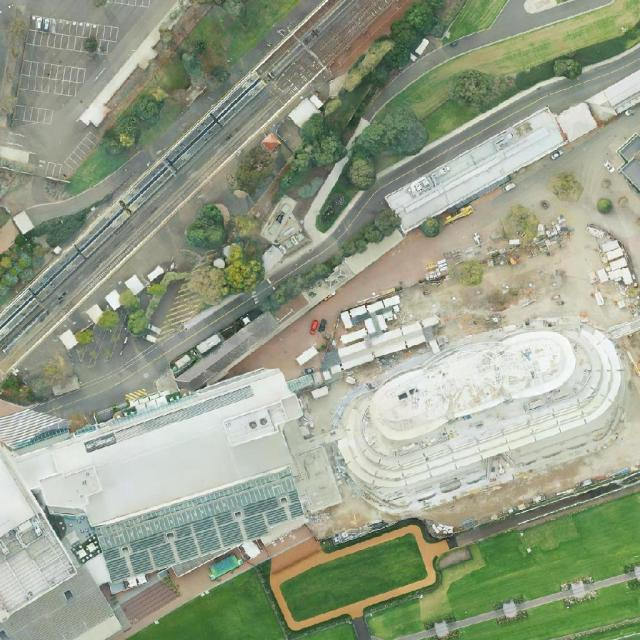building: (12, 360, 338, 608), (319, 293, 640, 531), (383, 88, 601, 237), (0, 447, 121, 640), (78, 23, 173, 132), (174, 309, 285, 401), (297, 222, 406, 311), (335, 313, 445, 372), (332, 293, 409, 347), (285, 445, 343, 516), (0, 397, 71, 454), (587, 233, 640, 297), (257, 193, 312, 252), (286, 92, 326, 130), (618, 134, 640, 194), (279, 417, 311, 458), (50, 374, 82, 398), (11, 210, 36, 236), (524, 0, 558, 14)
greenland: (43, 0, 297, 221), (380, 0, 640, 128), (255, 204, 404, 320), (276, 532, 429, 625), (0, 188, 95, 307), (128, 569, 285, 639), (329, 99, 435, 195), (257, 111, 350, 199), (409, 541, 492, 632), (106, 250, 188, 341), (182, 238, 270, 319), (311, 162, 367, 237), (446, 65, 517, 119), (441, 0, 508, 57), (181, 199, 239, 260), (225, 142, 281, 199), (21, 353, 77, 404), (365, 599, 427, 640), (0, 372, 40, 415), (511, 59, 560, 92), (295, 622, 358, 639), (95, 306, 123, 336), (553, 57, 584, 79), (75, 328, 94, 346)
metalled_road: (320, 34, 640, 243), (347, 0, 613, 121), (24, 147, 159, 233), (137, 277, 258, 371), (150, 88, 219, 157), (81, 316, 140, 393), (67, 371, 152, 418), (116, 357, 169, 393), (37, 392, 83, 424), (303, 237, 342, 270), (519, 588, 572, 612), (518, 590, 565, 614), (450, 609, 501, 631), (451, 608, 502, 630), (588, 572, 632, 591), (394, 627, 436, 640), (394, 627, 435, 640), (31, 176, 44, 204), (612, 576, 624, 583), (596, 582, 605, 590)
